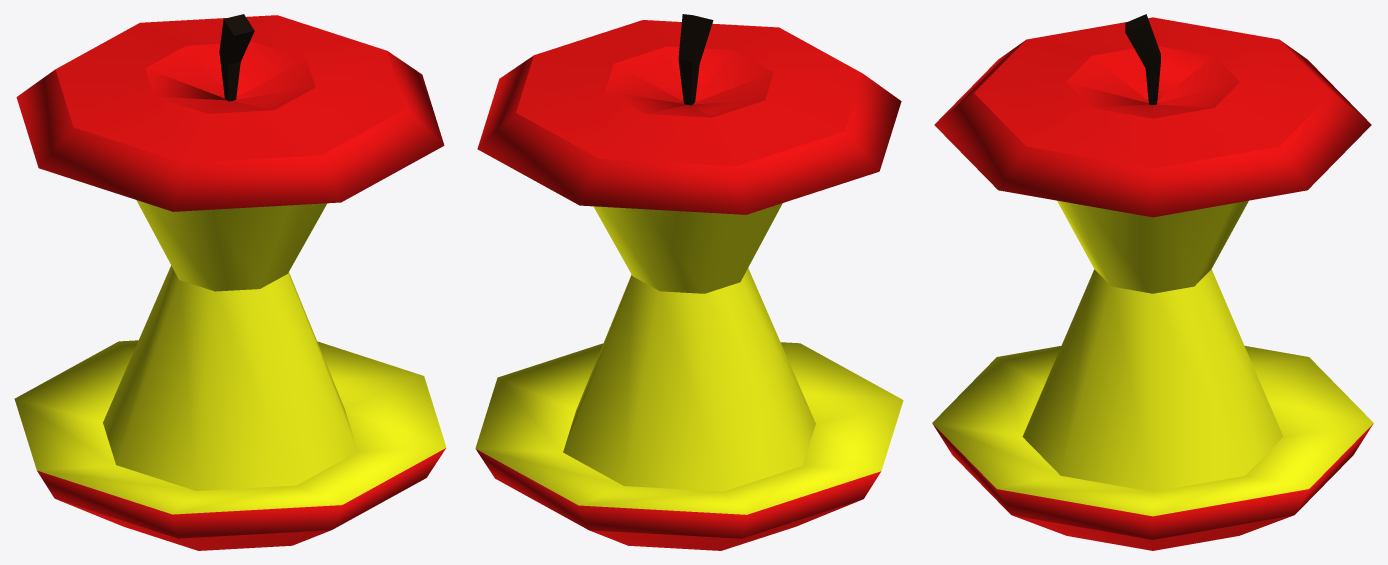
File: Pomme_Trognon.FBX
The picture shows the model from 3 angles, left to right: view 1: azimuth 30°, elevation 25°; view 2: azimuth 150°, elevation 25°; view 3: azimuth 270°, elevation 25°; orthographic projection.
Parts seen in each view (by area): view 1: Line001, Plane001; view 2: Line001, Plane001; view 3: Line001, Plane001.
Part boxes in pixels (left/top/right/bottom): Line001: left=14, top=15, right=446, bottom=550; Plane001: left=219, top=14, right=254, bottom=101; Line001: left=475, top=20, right=903, bottom=550; Plane001: left=678, top=14, right=713, bottom=105; Line001: left=932, top=17, right=1373, bottom=550; Plane001: left=1125, top=14, right=1160, bottom=104.
Size of the model in its own units: 74.61 by 91.84 by 74.61.
